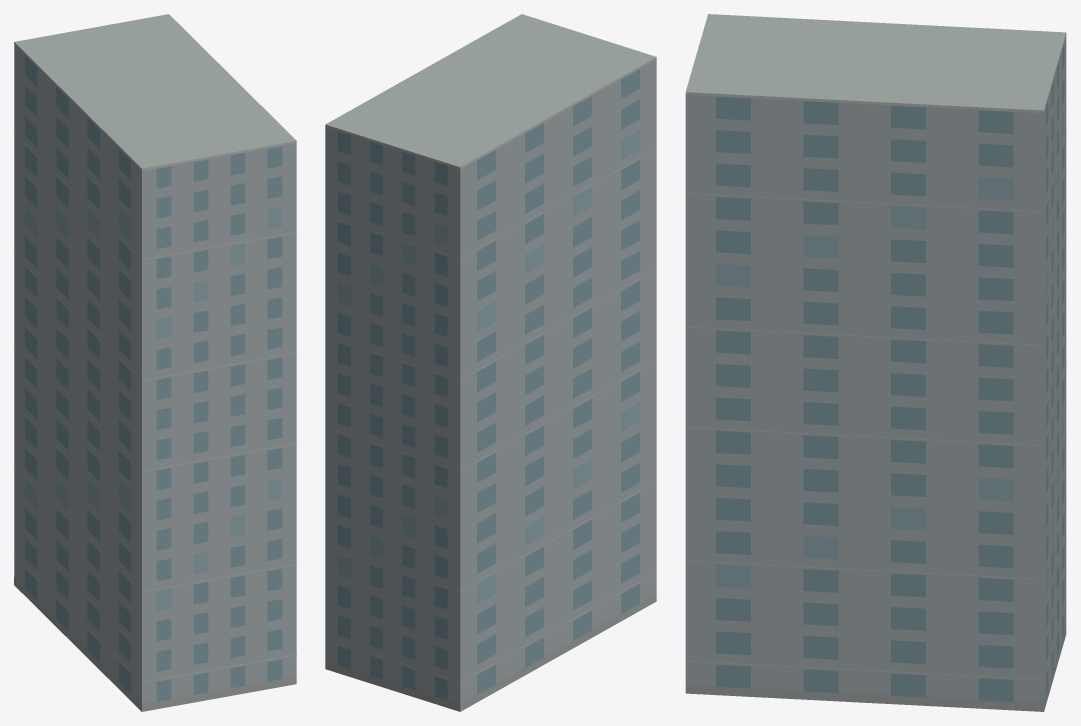
File: residential-77981399-2b87-4f91-a198-270e0bc48a64.glb
3 renders of one model, left to right at view 1: azimuth 30°, elevation 25°; view 2: azimuth 150°, elevation 25°; view 3: azimuth 270°, elevation 25°, orthographic. The views are drawn at different scales.
Visible parts, largest first — view 1: residential-77981399-2b87-4f91-a198-270e0bc48a64.tmp; view 2: residential-77981399-2b87-4f91-a198-270e0bc48a64.tmp; view 3: residential-77981399-2b87-4f91-a198-270e0bc48a64.tmp.
Boxes of the visible parts, box(x1,y1,x2,y2) form: residential-77981399-2b87-4f91-a198-270e0bc48a64.tmp: box(14, 14, 296, 711); residential-77981399-2b87-4f91-a198-270e0bc48a64.tmp: box(325, 14, 656, 711); residential-77981399-2b87-4f91-a198-270e0bc48a64.tmp: box(685, 14, 1066, 711).
Bounding box in the file's own units: 19.3 × 56 × 32.17.
